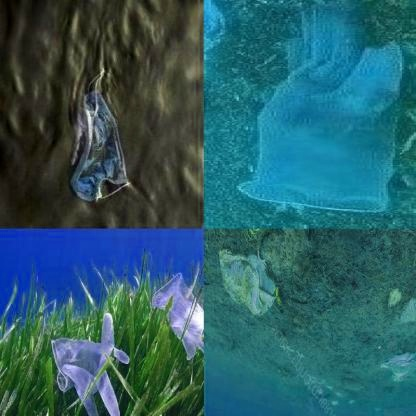Mask: (67, 66, 136, 209), (206, 242, 296, 320), (374, 330, 415, 395)
glove: (232, 1, 414, 214), (47, 309, 130, 415), (150, 274, 204, 372)
